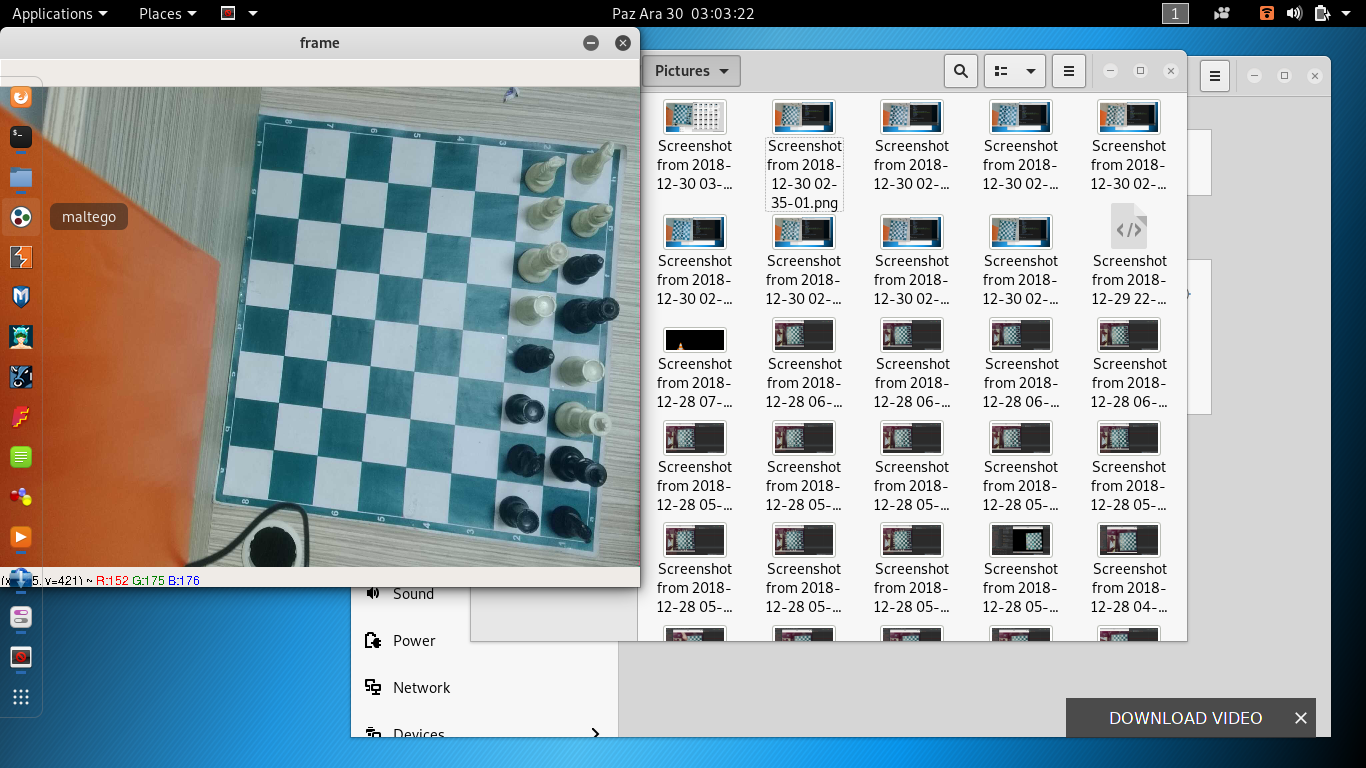BeyazAt: (572, 140, 616, 186), (523, 153, 565, 193)
BeyazFil: (571, 200, 614, 238), (526, 195, 565, 232)
BeyazKale: (498, 495, 541, 534), (514, 293, 558, 328), (559, 356, 605, 388)
BeyazSah: (553, 400, 612, 439)
BeyazVezir: (517, 241, 568, 283)
SiyahAt: (550, 505, 594, 544), (506, 442, 546, 479)
SiyahFil: (513, 342, 556, 375), (565, 253, 603, 286)
SiyahKale: (505, 393, 547, 427)
SiyahSah: (550, 445, 608, 487)
SiyahVezir: (562, 296, 620, 335)
